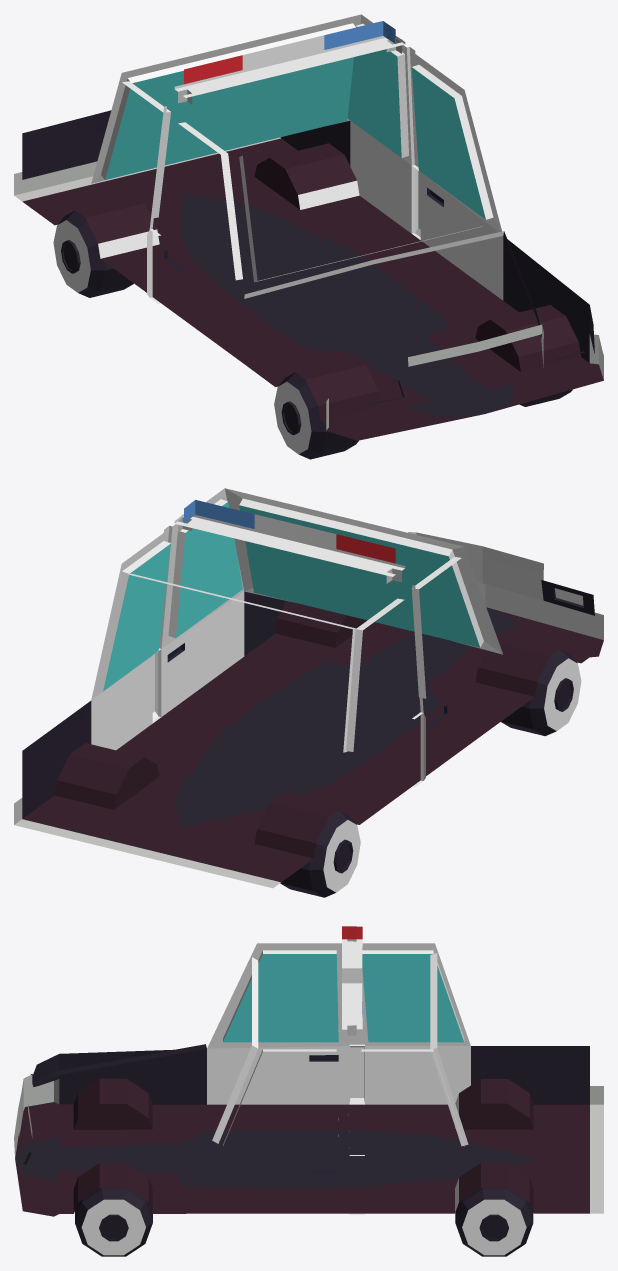
Rendered from cop-car.glb.
3 views of the same model, one above another, from view 1: azimuth 30°, elevation 25°; view 2: azimuth 150°, elevation 25°; view 3: azimuth 270°, elevation 25° (orthographic). The views are drawn at different scales.
Visible parts, largest first — view 1: CopCar_Cube.001, FrontWheels_Cylinder.001, BackWheels_Cylinder.004; view 2: CopCar_Cube.001, BackWheels_Cylinder.004, FrontWheels_Cylinder.001; view 3: CopCar_Cube.001, BackWheels_Cylinder.004, FrontWheels_Cylinder.001.
Boxes of the visible parts, box(x1,y1,x2,y2) form: CopCar_Cube.001: box(14, 14, 603, 440); FrontWheels_Cylinder.001: box(274, 372, 572, 459); BackWheels_Cylinder.004: box(53, 210, 133, 297); CopCar_Cube.001: box(14, 488, 603, 888); BackWheels_Cylinder.004: box(280, 810, 360, 897); FrontWheels_Cylinder.001: box(501, 648, 581, 736); CopCar_Cube.001: box(14, 926, 603, 1216); BackWheels_Cylinder.004: box(455, 1188, 533, 1256); FrontWheels_Cylinder.001: box(75, 1188, 152, 1256).
Bounding box in the file's own units: 1.86 × 1.76 × 3.99.
1 material, 1 textured.
